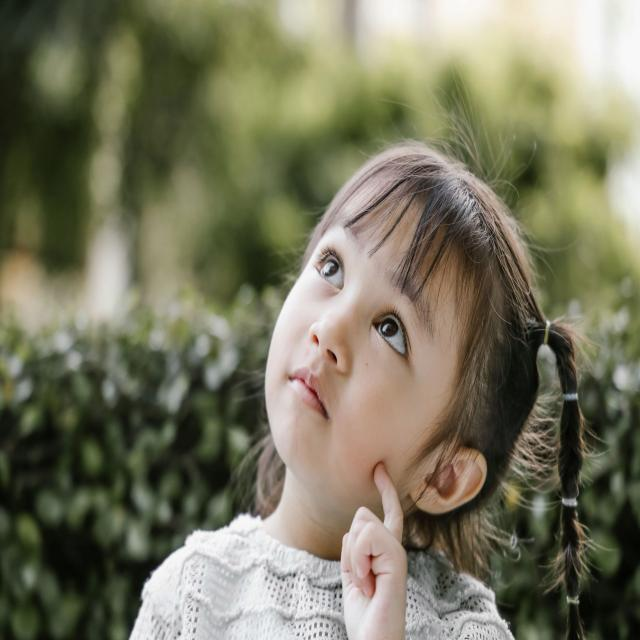child: (129, 144, 584, 640)
